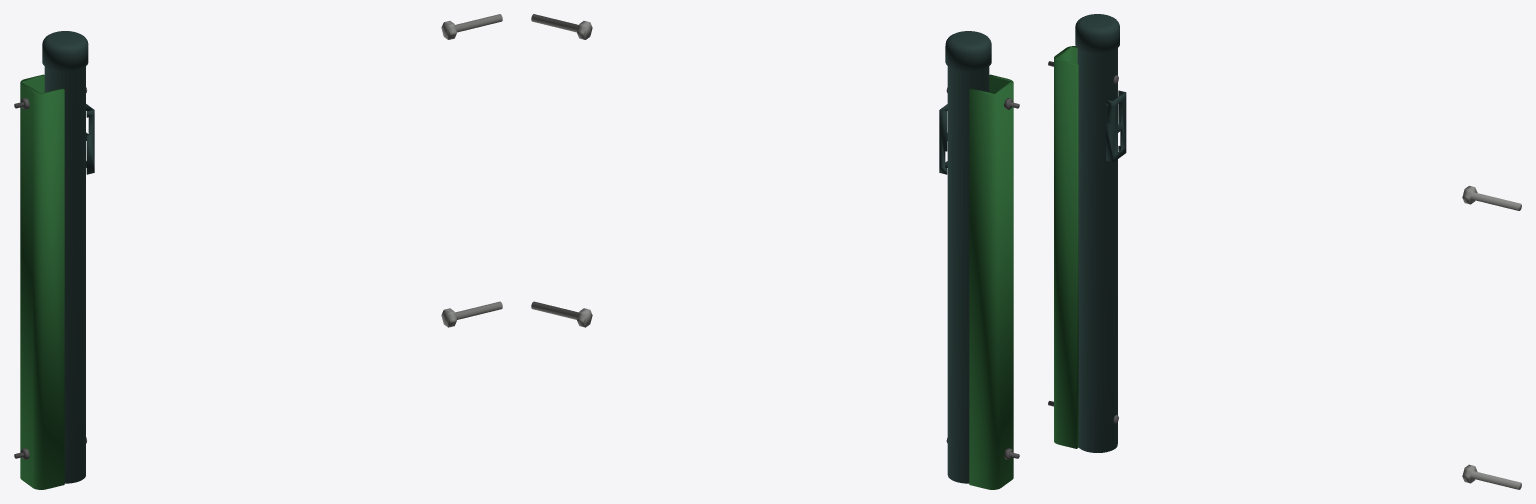
File: portti_tanko_salvalla.fbx
3 views of the same model, side by side, from view 1: azimuth 30°, elevation 25°; view 2: azimuth 150°, elevation 25°; view 3: azimuth 330°, elevation 25° (orthographic). The views are drawn at different scales.
Parts seen in each view (by area): view 1: U_tanko.002, tanko.002, iso_nut_LP.001, iso_nut_LP; view 2: U_tanko.002, tanko.002, iso_nut_LP.001, iso_nut_LP; view 3: tanko.002, U_tanko.002, iso_nut_LP.001, iso_nut_LP.
Boxes of the visible parts, bbox=[...] form: U_tanko.002: bbox=[20, 74, 64, 489]; tanko.002: bbox=[42, 31, 94, 483]; iso_nut_LP.001: bbox=[441, 301, 502, 327]; iso_nut_LP: bbox=[441, 14, 502, 39]; U_tanko.002: bbox=[969, 74, 1013, 489]; tanko.002: bbox=[939, 31, 991, 483]; iso_nut_LP.001: bbox=[531, 301, 592, 327]; iso_nut_LP: bbox=[531, 14, 592, 39]; tanko.002: bbox=[1075, 14, 1126, 452]; U_tanko.002: bbox=[1054, 46, 1078, 448]; iso_nut_LP.001: bbox=[1462, 464, 1521, 489]; iso_nut_LP: bbox=[1462, 186, 1521, 210].
Bounding box in the file's own units: 160 × 138 × 13.25.
